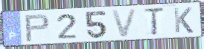2: (55, 13, 79, 41)
5: (83, 10, 108, 40)
K: (172, 6, 195, 34)
P: (23, 13, 51, 43)
T: (142, 7, 166, 37)
V: (109, 8, 139, 39)
